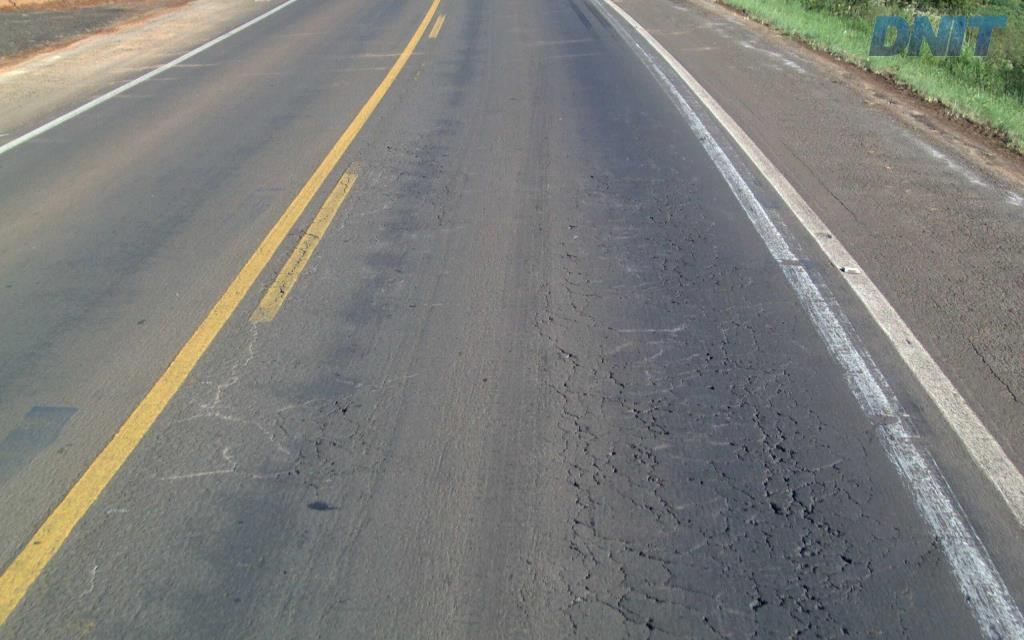crack: (769, 476, 824, 526), (796, 526, 830, 582), (773, 587, 820, 622), (601, 593, 636, 624)
